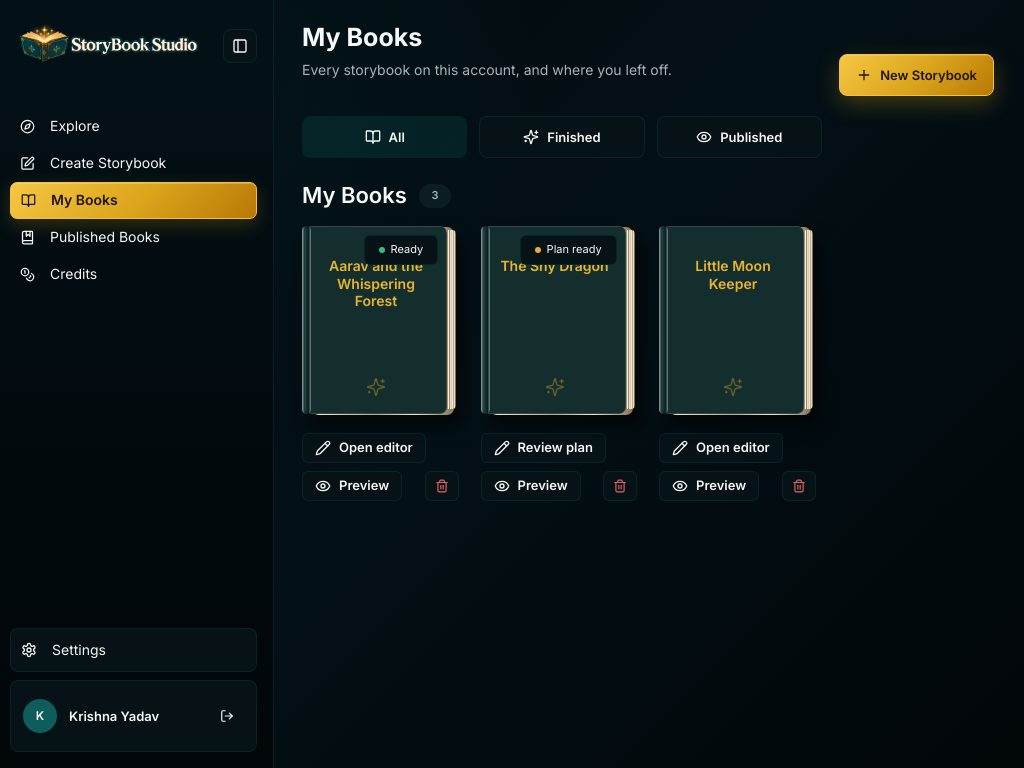
Test case: my books › deletes a book, but only after saying what goes with it
This screenshot has width=1024, height=768.
Click the button named "Delete The Shy Dragon" at (620, 486), box 603,471 -> 637,501
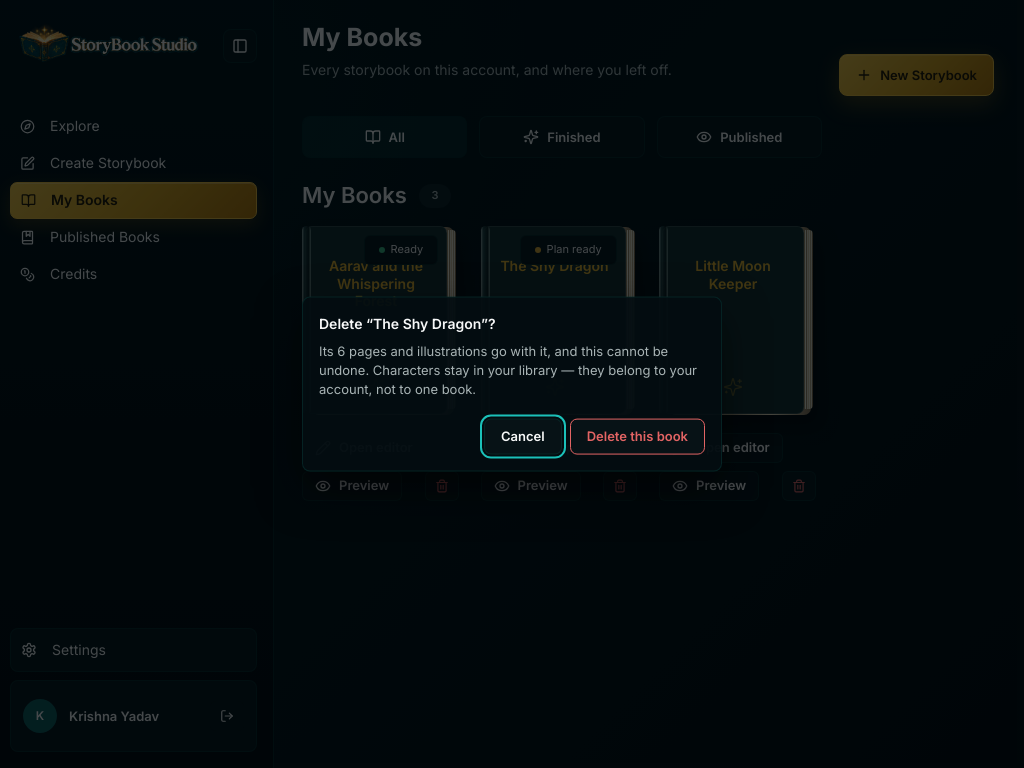
expect the heading "Delete “The Shy Dragon”?" is shown: met, box 319,315 -> 496,332
expect the text "Characters stay in your library" is shown: met, box 319,343 -> 697,397
Click the button "Delete this book" at (637, 436), box 570,418 -> 705,454
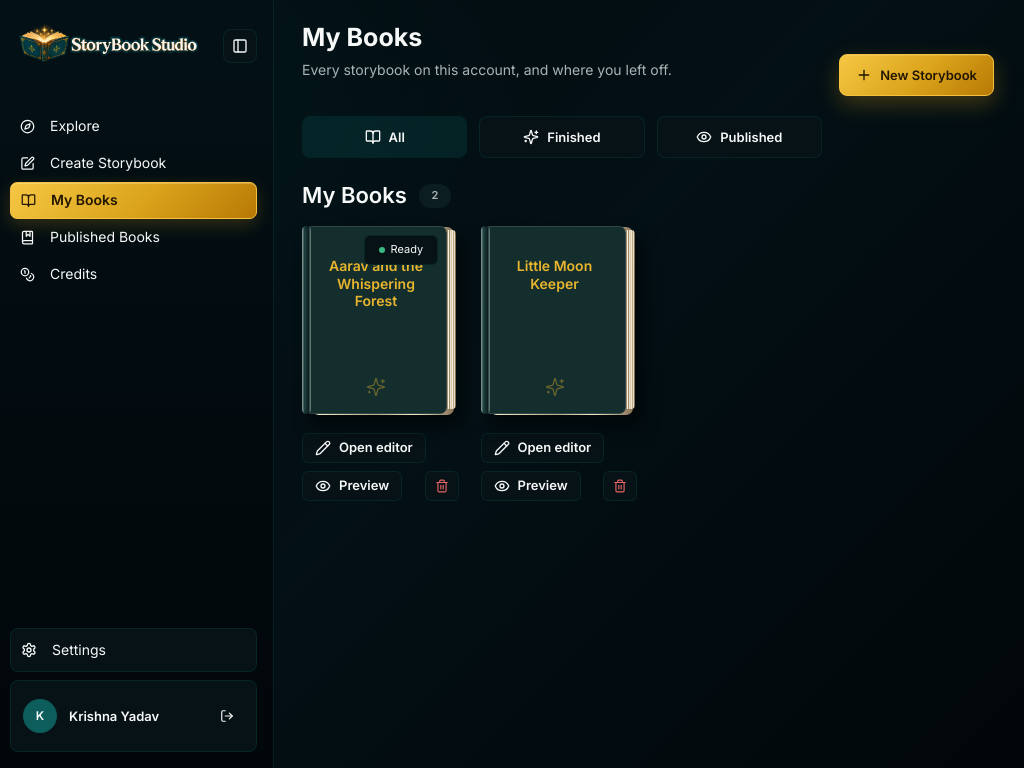
expect the text "Aarav and the Whispering Forest" is shown: met, box 329,257 -> 423,309
expect the link "The Shy Dragon" is gone: met
